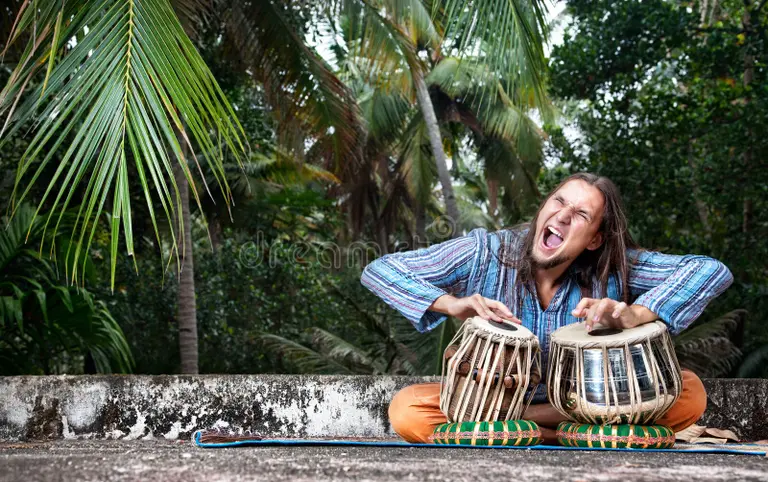tabla: (547, 320, 679, 422), (440, 318, 539, 422)
